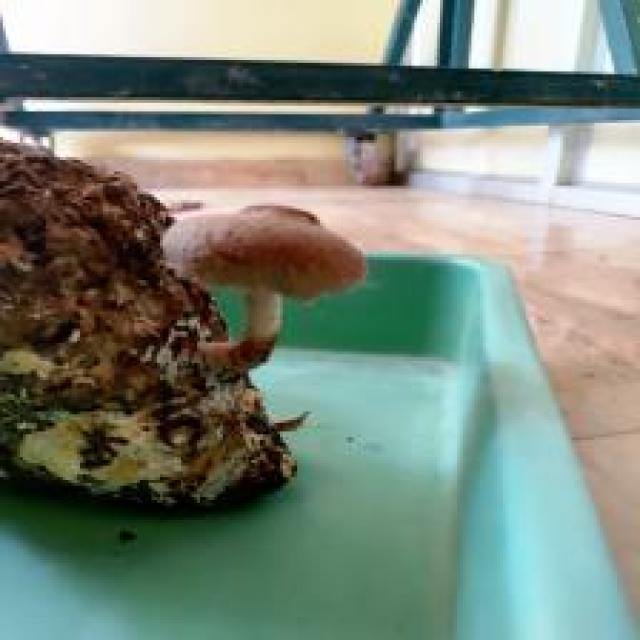field-mushroom: (157, 200, 366, 369)
